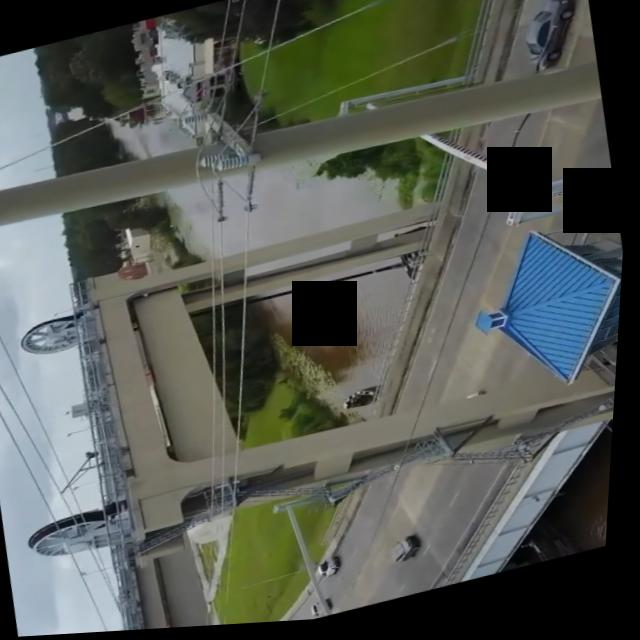Building: (0, 145, 632, 610), (55, 457, 570, 636), (314, 36, 627, 278), (441, 218, 628, 426)
Pole: (0, 29, 607, 258)
Vehicle: (501, 0, 591, 82), (372, 529, 447, 580), (306, 553, 362, 596)
